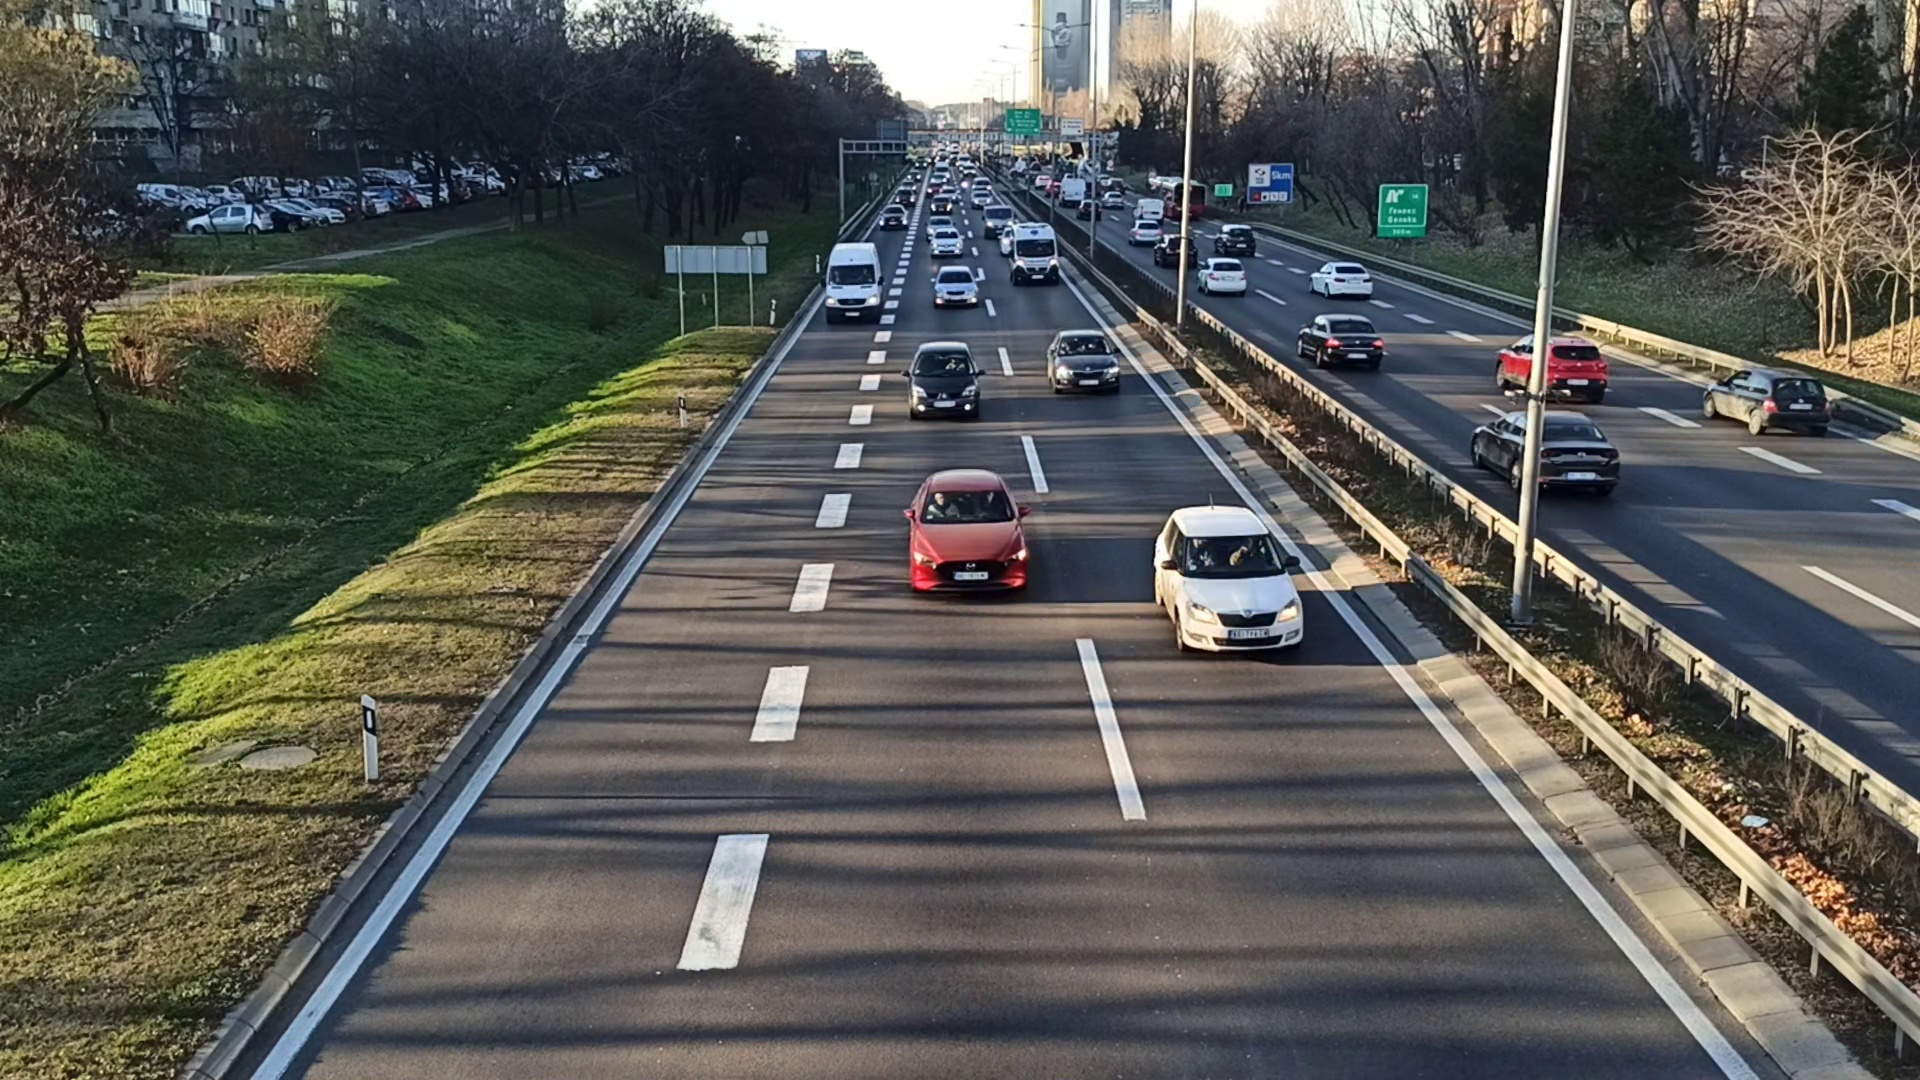car: (1145, 504, 1305, 658), (909, 465, 1029, 601), (1473, 411, 1619, 500), (1702, 365, 1826, 444), (1497, 330, 1606, 401), (905, 344, 980, 419), (1295, 316, 1387, 375), (1044, 328, 1116, 394), (1308, 258, 1375, 298), (1195, 255, 1247, 298), (934, 264, 980, 309), (1215, 222, 1255, 256), (1154, 233, 1189, 266), (928, 229, 963, 256), (1129, 218, 1160, 243), (880, 204, 910, 228), (930, 196, 953, 211)
van: (825, 243, 882, 320), (1004, 219, 1059, 285), (981, 203, 1010, 235)
